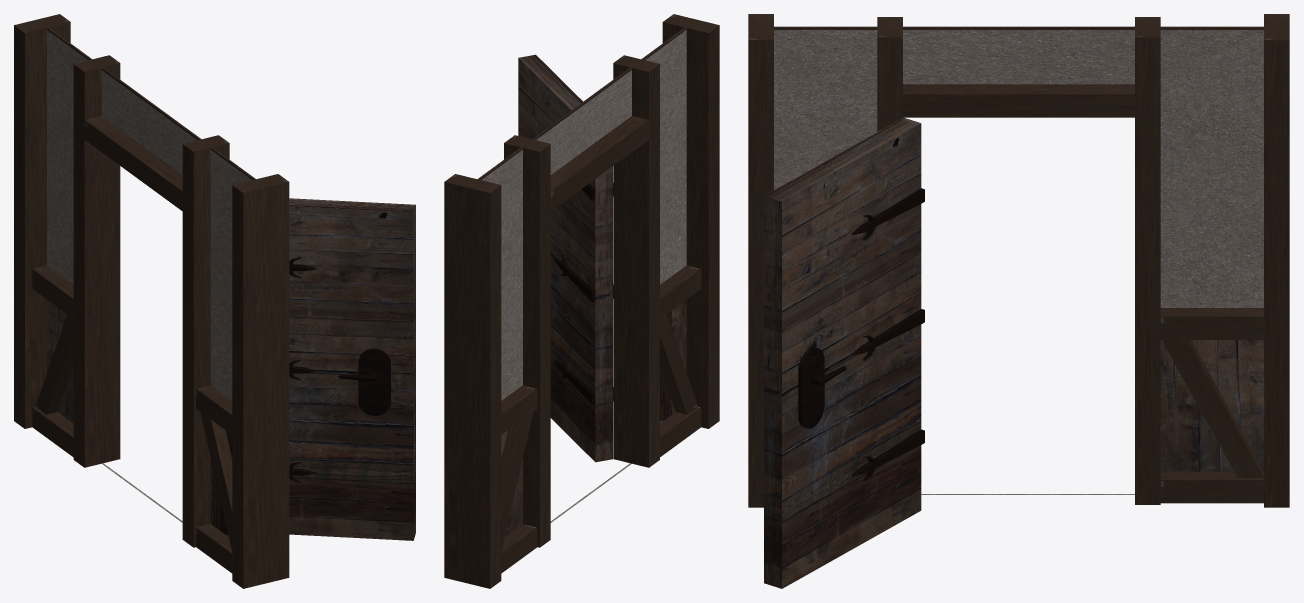
The model's file is OutdoorArchitecture_BasicWall01_Door01_OpenDoor_BothEdges_BShortt.fbx.
3 renders of one model, left to right at view 1: azimuth 30°, elevation 25°; view 2: azimuth 150°, elevation 25°; view 3: azimuth 270°, elevation 25°, orthographic. The views are drawn at different scales.
Visible parts, largest first — view 1: OutdoorArchitecture_BasicWall01_Door01_OpenDoor_BothEdges_BS; view 2: OutdoorArchitecture_BasicWall01_Door01_OpenDoor_BothEdges_BS; view 3: OutdoorArchitecture_BasicWall01_Door01_OpenDoor_BothEdges_BS.
Part boxes in pixels (x1,y1,x2,y2): OutdoorArchitecture_BasicWall01_Door01_OpenDoor_BothEdges_BS: [14, 14, 415, 588]; OutdoorArchitecture_BasicWall01_Door01_OpenDoor_BothEdges_BS: [444, 14, 719, 588]; OutdoorArchitecture_BasicWall01_Door01_OpenDoor_BothEdges_BS: [748, 14, 1289, 588].
Bounding box in the file's own units: 148 × 300 × 315.
